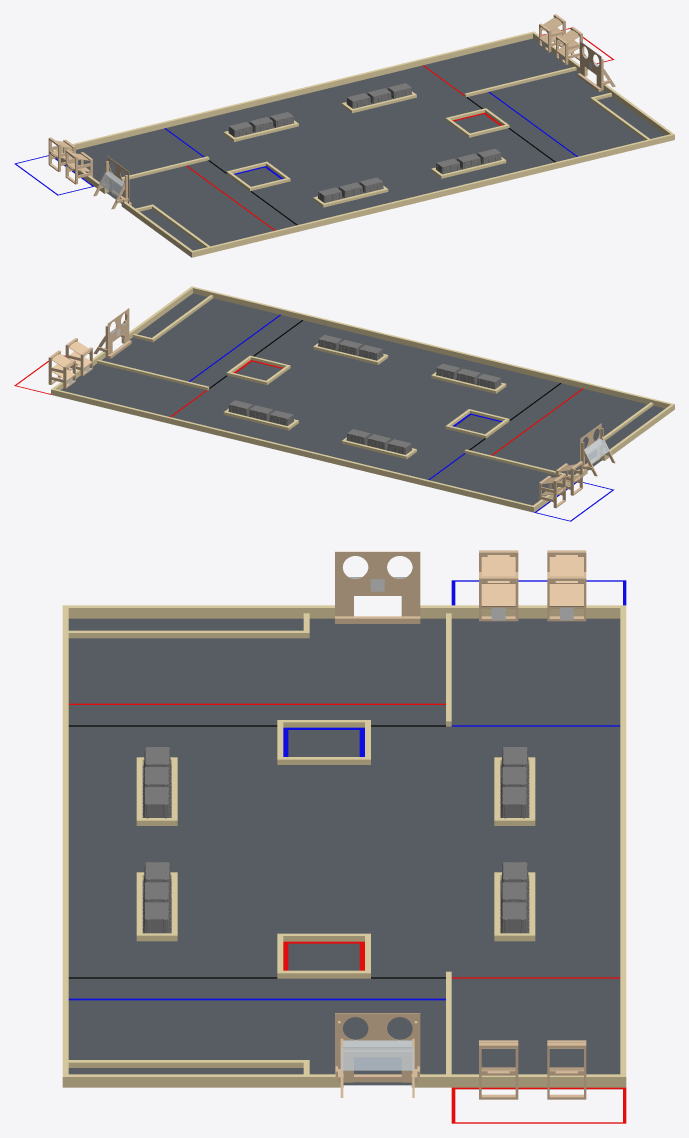
3 views of the same model, one above another, from view 1: azimuth 30°, elevation 25°; view 2: azimuth 150°, elevation 25°; view 3: azimuth 270°, elevation 25° (orthographic). The views are drawn at different scales.
Visible parts, largest first — view 1: Field Carpet, Field Perimeter (×2), Part 8 (×4), Red Lush Lawn Barrier, Blue Lush Lawn Barrier, Value/Operative Zone Barrier, Part 1, Blue Stack/Place Barrier, Vault/Operative Zone Barrier, Red Stack/Place Barrier; view 2: Field Carpet, Field Perimeter (×2), Part 8 (×4), Blue Lush Lawn Barrier, Red Lush Lawn Barrier, Part 1, Value/Operative Zone Barrier, Vault/Operative Zone Barrier, Blue Stack/Place Barrier; view 3: Field Carpet, Field Perimeter (×2), Part 1 (×2), Part 8 (×4), Red Stack/Place Barrier, Blue Lush Lawn Barrier, Blue Stack/Place Barrier, Red Lush Lawn Barrier, Part 7, Part 2 (×2), Part 3 (×2), Red Human Player Zone (+1 smaller).
Boxes of the visible parts, x1,y1,x2,y2 form: Field Carpet: [69, 38, 664, 250]; Field Perimeter (×2): [52, 31, 674, 257]; Part 8 (×4): [223, 91, 506, 207]; Red Lush Lawn Barrier: [226, 161, 290, 191]; Blue Lush Lawn Barrier: [445, 108, 509, 137]; Value/Operative Zone Barrier: [464, 66, 576, 97]; Part 1: [580, 41, 601, 90]; Blue Stack/Place Barrier: [590, 92, 649, 140]; Vault/Operative Zone Barrier: [103, 156, 209, 183]; Red Stack/Place Barrier: [136, 204, 209, 247]; Field Carpet: [61, 293, 664, 505]; Field Perimeter (×2): [51, 286, 674, 512]; Part 8 (×4): [223, 343, 506, 459]; Blue Lush Lawn Barrier: [226, 355, 290, 384]; Red Lush Lawn Barrier: [445, 409, 509, 438]; Part 1: [107, 308, 129, 357]; Value/Operative Zone Barrier: [97, 359, 209, 390]; Vault/Operative Zone Barrier: [464, 449, 570, 476]; Blue Stack/Place Barrier: [132, 295, 213, 342]; Field Carpet: [68, 618, 620, 1085]; Field Perimeter (×2): [62, 605, 626, 1087]; Part 1 (×2): [335, 551, 420, 1082]; Part 8 (×4): [136, 757, 535, 941]; Red Stack/Place Barrier: [68, 613, 309, 638]; Blue Lush Lawn Barrier: [277, 933, 370, 978]; Blue Stack/Place Barrier: [68, 1060, 309, 1074]; Red Lush Lawn Barrier: [277, 720, 370, 764]; Part 7: [340, 1047, 414, 1070]; Part 2 (×2): [479, 1043, 586, 1099]; Part 3 (×2): [481, 583, 583, 606]; Red Human Player Zone: [451, 1087, 626, 1123].
Bounding box in the file's own units: 19.18 × 1.15 × 8.41.
